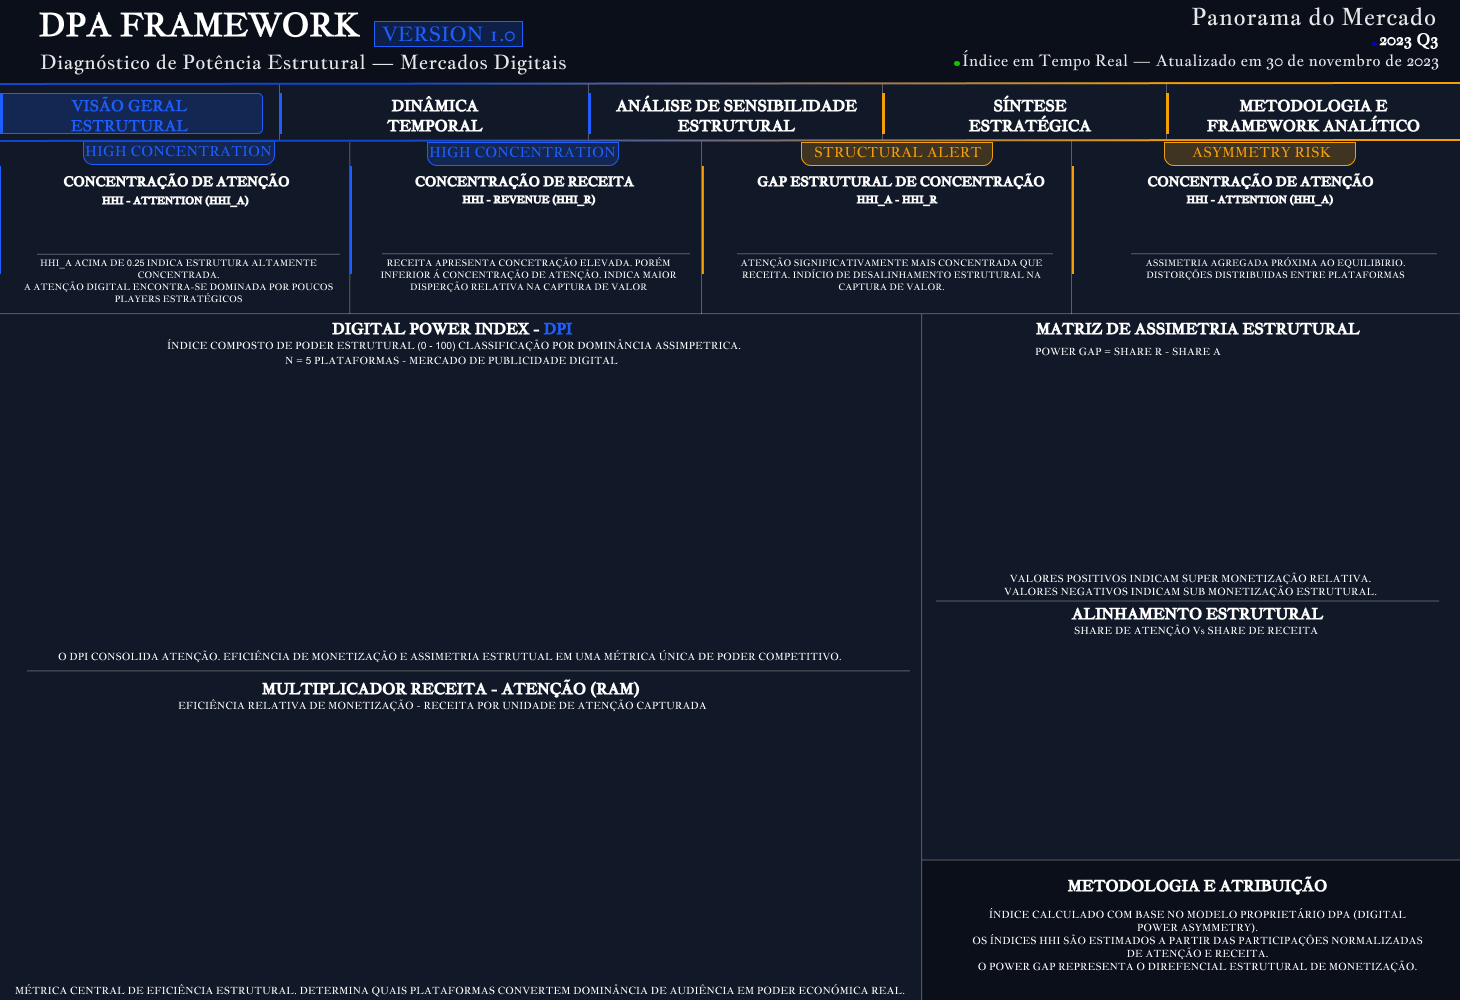

Layout of this report page (visuals, bound fields, positions):
{"tool":"powerbi","page":{"name":"Visão Geral Estrutural","canvas":[1460,1000],"ordinal":0},"visuals":[{"type":"cardVisual","title":"Concentração de Atenção (HHI_A)","fields":{"Data":["FATO_USUARIOS_TRIMESTRAL.HHI_A"]},"box":[11.4,194.3,141.4,74.3],"z":0},{"type":"cardVisual","title":"Concentração de Receita (HHI_R)","fields":{"Data":["FATO_USUARIOS_TRIMESTRAL.HHI_R"]},"box":[351.4,194.3,157.1,74.3],"z":1000},{"type":"cardVisual","title":"Gap Estrutural de Concentração","fields":{"Data":["FATO_USUARIOS_TRIMESTRAL.Gap Estrutural de Concentração"]},"box":[712.9,185.7,207.1,91.4],"z":2000},{"type":"cardVisual","title":"Gap Médio de Poder Estrutural","fields":{"Data":["FATO_USUARIOS_TRIMESTRAL.Gap Médio de Poder Estrutural"]},"box":[1105.7,194.3,232.9,74.3],"z":3000},{"type":"barChart","title":"Índice de Poder Digital (DPI™)","fields":{"Category":["DIM_PLATAFORMA.Plataforma"],"Y":["FATO_USUARIOS_TRIMESTRAL.DPI Score (0-100)"]},"box":[0,365.7,920,278.6],"z":4000},{"type":"pivotTable","title":"Assimetria Estrutural de Mercado","fields":{"Rows":["DIM_PLATAFORMA.Plataforma"],"Values":["FATO_USUARIOS_TRIMESTRAL.Share_R","FATO_USUARIOS_TRIMESTRAL.Share_A","FATO_USUARIOS_TRIMESTRAL.Power Gap"]},"box":[937.1,365.7,480,244.3],"z":5000},{"type":"barChart","title":"Assimetria Estrutural de Mercado","fields":{"Category":["DIM_PLATAFORMA.Plataforma"],"Y":["FATO_USUARIOS_TRIMESTRAL.RAM_Normalizado"]},"box":[0,721.4,920,261.4],"z":6000},{"type":"scatterChart","fields":{"Series":["DIM_PLATAFORMA.Plataforma"],"X":["FATO_USUARIOS_TRIMESTRAL.Share_A"],"Y":["FATO_USUARIOS_TRIMESTRAL.Share_R"],"Size":["FATO_USUARIOS_TRIMESTRAL.DPI Score"]},"box":[937.1,644.3,491.4,194.3],"z":7000},{"type":"pageNavigator","box":[0,87.5,1460,45],"z":8000}]}

Visuals, with their boxes in screenshot pixels (x1, y1, x2, y2), scaled from the page's 1460x1000 canvas onto the 1460x1000 screenshot:
"Concentração de Atenção (HHI_A)" cardVisual: BBox(11, 194, 153, 269)
"Concentração de Receita (HHI_R)" cardVisual: BBox(351, 194, 508, 269)
"Gap Estrutural de Concentração" cardVisual: BBox(713, 186, 920, 277)
"Gap Médio de Poder Estrutural" cardVisual: BBox(1106, 194, 1339, 269)
"Índice de Poder Digital (DPI™)" barChart: BBox(0, 366, 920, 644)
"Assimetria Estrutural de Mercado" pivotTable: BBox(937, 366, 1417, 610)
"Assimetria Estrutural de Mercado" barChart: BBox(0, 721, 920, 983)
scatterChart - DIM_PLATAFORMA.Plataforma x FATO_USUARIOS_TRIMESTRAL.Share_A: BBox(937, 644, 1428, 839)
pageNavigator: BBox(0, 88, 1459, 132)
